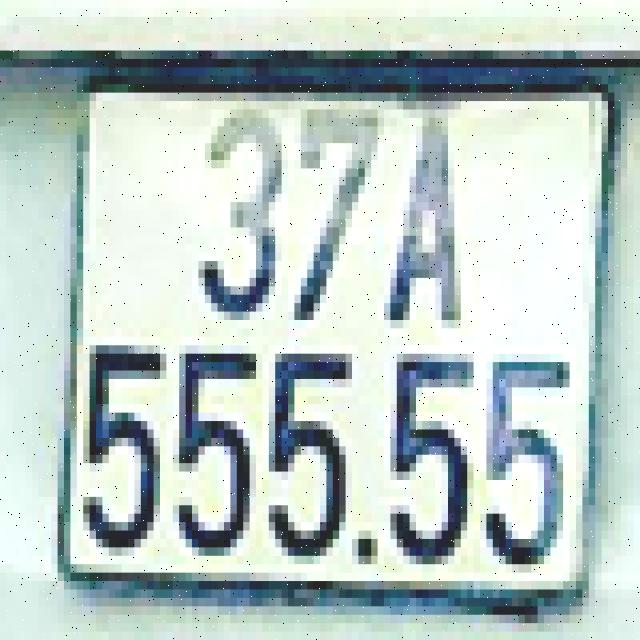3: (195, 103, 281, 324)
5: (478, 346, 572, 574), (262, 340, 348, 571), (168, 339, 256, 561), (388, 346, 474, 566), (80, 342, 164, 561)
7: (290, 98, 384, 332)
A: (386, 108, 476, 333)
